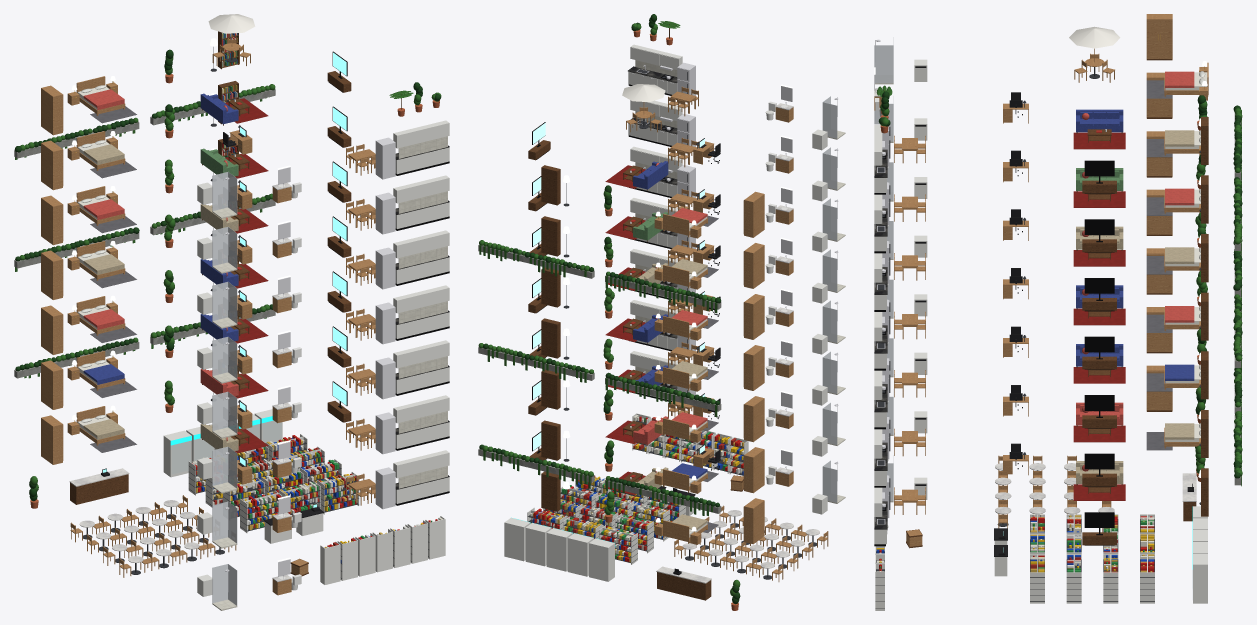
The model's file is i_arcology_block.gltf.
The picture shows the model from 3 angles, left to right: view 1: azimuth 30°, elevation 25°; view 2: azimuth 150°, elevation 25°; view 3: azimuth 270°, elevation 25°; orthographic projection. The views are drawn at different scales.
Parts seen in each view (by area): view 1: I_arcology_block; view 2: I_arcology_block; view 3: I_arcology_block.
Part boxes in pixels (<box>): I_arcology_block: <box>14,14,449,610</box>; I_arcology_block: <box>478,14,845,610</box>; I_arcology_block: <box>874,14,1242,610</box>.
Bounding box in the file's own units: 15.36 × 26.85 × 17.1.
Materials: 44 (15 with a texture image).
